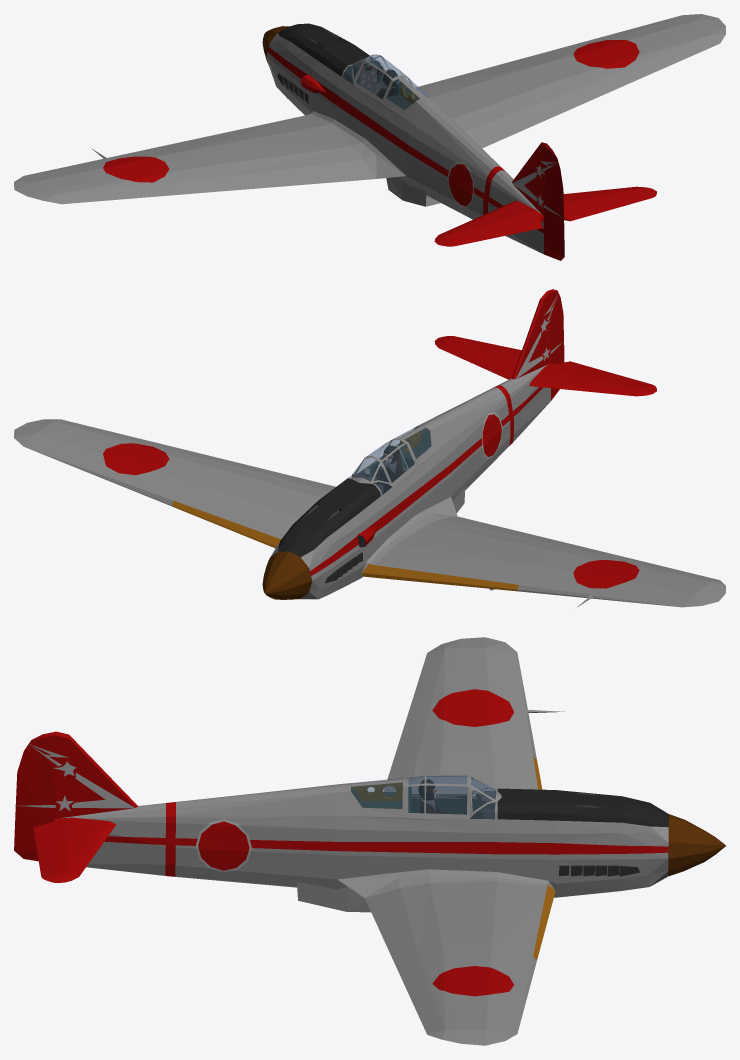
File: KI61BNP.obj
The picture shows the model from 3 angles, top to bottom: view 1: azimuth 30°, elevation 25°; view 2: azimuth 150°, elevation 25°; view 3: azimuth 270°, elevation 25°; orthographic projection. The views are drawn at different scales.
Visible parts, largest first — view 1: ShapeIndexedFaceSet_ShapeIndexedFaceSet.001, ShapeIndexedFaceSet.001_ShapeIndexedFaceSet.002, ShapeIndexedFaceSet.031_ShapeIndexedFaceSet.032, ShapeIndexedFaceSet.007_ShapeIndexedFaceSet.008, ShapeIndexedFaceSet.032_ShapeIndexedFaceSet.033, ShapeIndexedFaceSet.039_ShapeIndexedFaceSet.040, ShapeIndexedFaceSet.072_ShapeIndexedFaceSet.073, ShapeIndexedFaceSet.070_ShapeIndexedFaceSet.071, ShapeIndexedFaceSet.038_ShapeIndexedFaceSet.039, ShapeIndexedFaceSet.037_ShapeIndexedFaceSet.038, ShapeIndexedFaceSet.005_ShapeIndexedFaceSet.006, ShapeIndexedFaceSet.069_ShapeIndexedFaceSet.070 (+2 smaller); view 2: ShapeIndexedFaceSet_ShapeIndexedFaceSet.001, ShapeIndexedFaceSet.001_ShapeIndexedFaceSet.002, ShapeIndexedFaceSet.007_ShapeIndexedFaceSet.008, ShapeIndexedFaceSet.008_ShapeIndexedFaceSet.009, ShapeIndexedFaceSet.010_ShapeIndexedFaceSet.011, ShapeIndexedFaceSet.070_ShapeIndexedFaceSet.071, ShapeIndexedFaceSet.039_ShapeIndexedFaceSet.040, ShapeIndexedFaceSet.072_ShapeIndexedFaceSet.073, ShapeIndexedFaceSet.031_ShapeIndexedFaceSet.032, ShapeIndexedFaceSet.032_ShapeIndexedFaceSet.033, ShapeIndexedFaceSet.005_ShapeIndexedFaceSet.006, ShapeIndexedFaceSet.015_ShapeIndexedFaceSet.016 (+3 smaller); view 3: ShapeIndexedFaceSet_ShapeIndexedFaceSet.001, ShapeIndexedFaceSet.001_ShapeIndexedFaceSet.002, ShapeIndexedFaceSet.007_ShapeIndexedFaceSet.008, ShapeIndexedFaceSet.039_ShapeIndexedFaceSet.040, ShapeIndexedFaceSet.032_ShapeIndexedFaceSet.033, ShapeIndexedFaceSet.010_ShapeIndexedFaceSet.011, ShapeIndexedFaceSet.072_ShapeIndexedFaceSet.073, ShapeIndexedFaceSet.070_ShapeIndexedFaceSet.071, ShapeIndexedFaceSet.031_ShapeIndexedFaceSet.032, ShapeIndexedFaceSet.005_ShapeIndexedFaceSet.006, ShapeIndexedFaceSet.015_ShapeIndexedFaceSet.016, ShapeIndexedFaceSet.071_ShapeIndexedFaceSet.072 (+5 smaller).
Boxes of the visible parts, left/top/right/bottom form: ShapeIndexedFaceSet_ShapeIndexedFaceSet.001: left=14, top=14, right=725, bottom=254; ShapeIndexedFaceSet.001_ShapeIndexedFaceSet.002: left=103, top=40, right=656, bottom=246; ShapeIndexedFaceSet.031_ShapeIndexedFaceSet.032: left=567, top=34, right=719, bottom=105; ShapeIndexedFaceSet.007_ShapeIndexedFaceSet.008: left=278, top=23, right=372, bottom=76; ShapeIndexedFaceSet.032_ShapeIndexedFaceSet.033: left=54, top=176, right=231, bottom=204; ShapeIndexedFaceSet.039_ShapeIndexedFaceSet.040: left=544, top=144, right=564, bottom=260; ShapeIndexedFaceSet.072_ShapeIndexedFaceSet.073: left=356, top=55, right=408, bottom=98; ShapeIndexedFaceSet.070_ShapeIndexedFaceSet.071: left=343, top=55, right=429, bottom=109; ShapeIndexedFaceSet.038_ShapeIndexedFaceSet.039: left=449, top=217, right=542, bottom=246; ShapeIndexedFaceSet.037_ShapeIndexedFaceSet.038: left=564, top=192, right=651, bottom=221; ShapeIndexedFaceSet.005_ShapeIndexedFaceSet.006: left=447, top=161, right=544, bottom=207; ShapeIndexedFaceSet.069_ShapeIndexedFaceSet.070: left=340, top=55, right=425, bottom=98; ShapeIndexedFaceSet_ShapeIndexedFaceSet.001: left=14, top=365, right=725, bottom=607; ShapeIndexedFaceSet.001_ShapeIndexedFaceSet.002: left=103, top=291, right=656, bottom=588; ShapeIndexedFaceSet.007_ShapeIndexedFaceSet.008: left=278, top=478, right=380, bottom=557; ShapeIndexedFaceSet.008_ShapeIndexedFaceSet.009: left=172, top=501, right=518, bottom=591; ShapeIndexedFaceSet.010_ShapeIndexedFaceSet.011: left=262, top=551, right=311, bottom=599; ShapeIndexedFaceSet.070_ShapeIndexedFaceSet.071: left=349, top=426, right=431, bottom=494; ShapeIndexedFaceSet.039_ShapeIndexedFaceSet.040: left=547, top=289, right=564, bottom=400; ShapeIndexedFaceSet.072_ShapeIndexedFaceSet.073: left=357, top=440, right=414, bottom=482; ShapeIndexedFaceSet.031_ShapeIndexedFaceSet.032: left=54, top=419, right=231, bottom=462; ShapeIndexedFaceSet.032_ShapeIndexedFaceSet.033: left=568, top=545, right=719, bottom=581; ShapeIndexedFaceSet.005_ShapeIndexedFaceSet.006: left=481, top=309, right=550, bottom=458; ShapeIndexedFaceSet.015_ShapeIndexedFaceSet.016: left=355, top=426, right=431, bottom=476; ShapeIndexedFaceSet_ShapeIndexedFaceSet.001: left=61, top=637, right=668, bottom=1045; ShapeIndexedFaceSet.001_ShapeIndexedFaceSet.002: left=41, top=689, right=668, bottom=996; ShapeIndexedFaceSet.007_ShapeIndexedFaceSet.008: left=497, top=788, right=668, bottom=827; ShapeIndexedFaceSet.039_ShapeIndexedFaceSet.040: left=14, top=731, right=56, bottom=861; ShapeIndexedFaceSet.032_ShapeIndexedFaceSet.033: left=393, top=648, right=444, bottom=760; ShapeIndexedFaceSet.010_ShapeIndexedFaceSet.011: left=668, top=814, right=725, bottom=876; ShapeIndexedFaceSet.072_ShapeIndexedFaceSet.073: left=408, top=775, right=467, bottom=814; ShapeIndexedFaceSet.070_ShapeIndexedFaceSet.071: left=351, top=777, right=495, bottom=818; ShapeIndexedFaceSet.031_ShapeIndexedFaceSet.032: left=393, top=953, right=444, bottom=1034; ShapeIndexedFaceSet.005_ShapeIndexedFaceSet.006: left=56, top=753, right=251, bottom=872; ShapeIndexedFaceSet.015_ShapeIndexedFaceSet.016: left=351, top=786, right=495, bottom=818; ShapeIndexedFaceSet.071_ShapeIndexedFaceSet.072: left=405, top=775, right=469, bottom=818.
Bounding box in the file's own units: 120 × 23.15 × 88.4.
